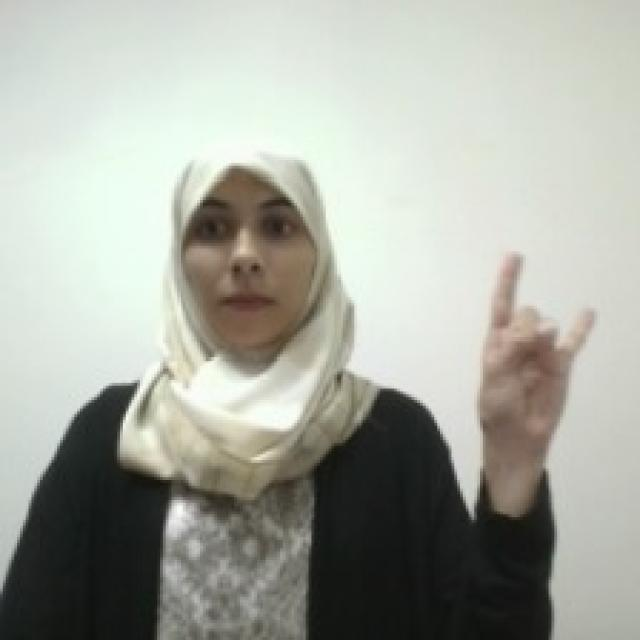No: (475, 245, 602, 452)
